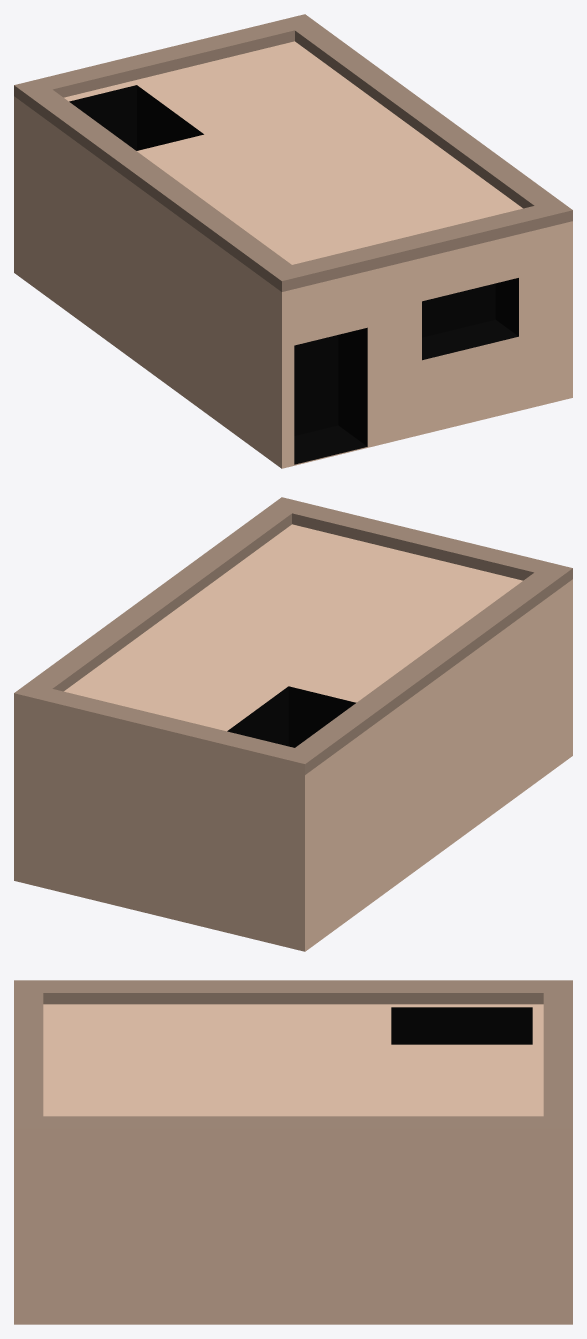
Rendered from House.gltf.
The picture shows the model from 3 angles, top to bottom: view 1: azimuth 30°, elevation 25°; view 2: azimuth 150°, elevation 25°; view 3: azimuth 270°, elevation 25°; orthographic projection. The views are drawn at different scales.
Parts seen in each view (by area): view 1: Cube; view 2: Cube; view 3: Cube.
Boxes of the visible parts, x1,y1,x2,y2 form: Cube: (14,14,572,468); Cube: (14,497,572,951); Cube: (14,980,572,1324).
Size of the model in its own units: 3.45 by 2.12 by 5.49.
